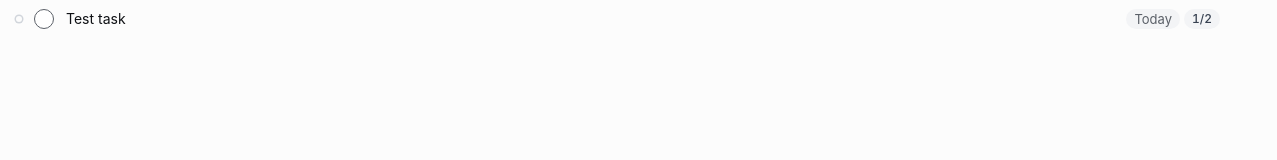
Test case: TaskListRow › subtask progress chip › clicking the subtask chip expands inline subtask rows
The image size is (1277, 160).
Check: the text "Sub Alpha" is not shown
Check: the text "Sub Beta" is not shown
Click chip → both subtask rows appear.
Click the button named "subtasks complete": {"x": 1202, "y": 19} [1184,9,1220,29]
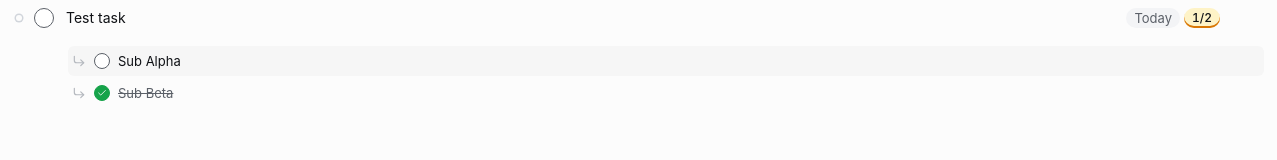
Check: the button "Sub Alpha" is shown, box [118,51,1260,71]
Check: the button "Sub Beta" is shown, box [118,83,1260,103]
